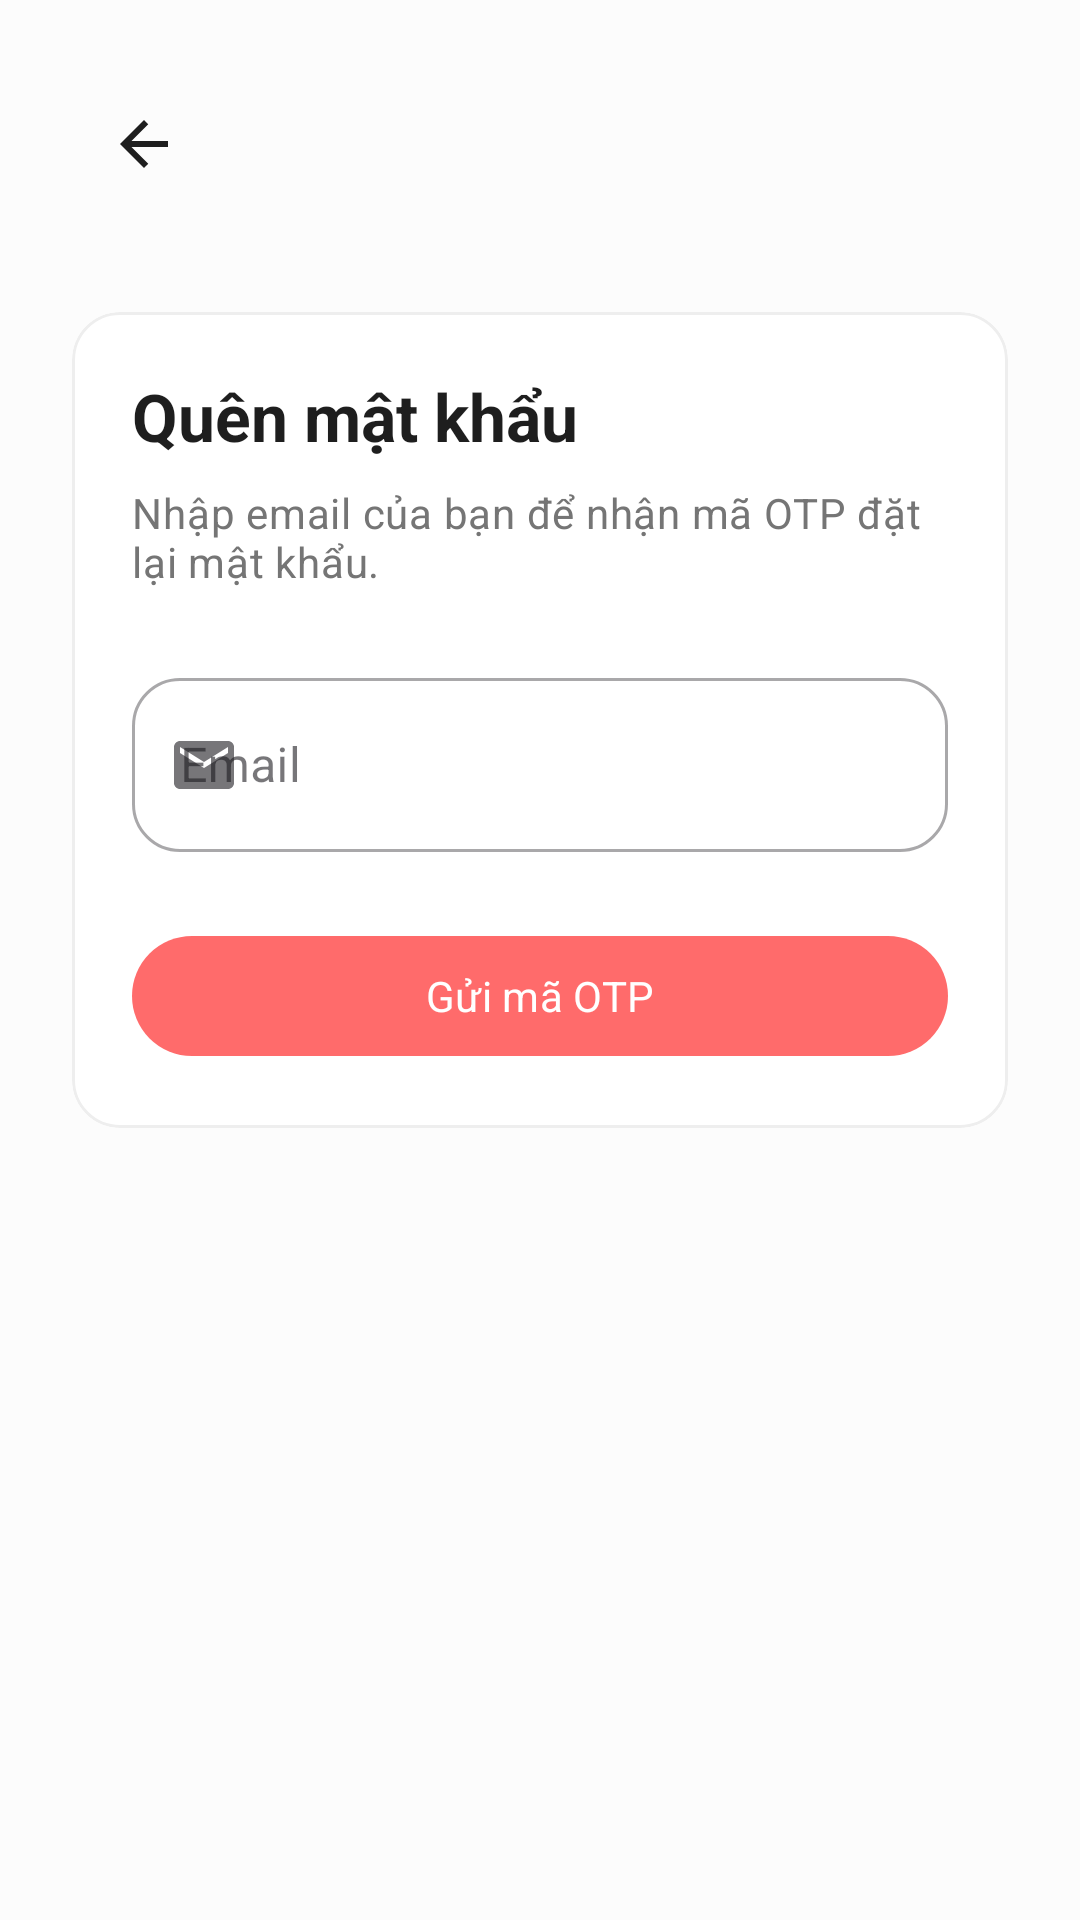

Named icons in this screenshot (1080w x 1920h) and their bounding boxes, (x1, y1, x2, y2):
arrow back: (120, 120, 168, 168)
